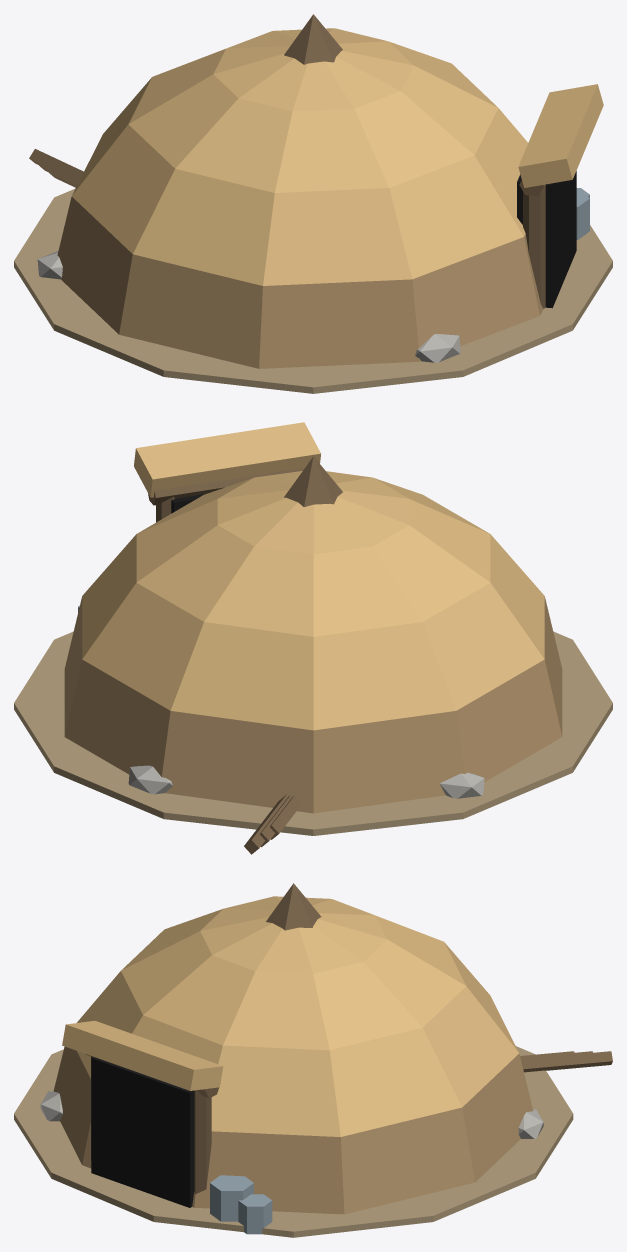
File: house.glb
3 views of the same model, one above another, from view 1: azimuth 30°, elevation 25°; view 2: azimuth 150°, elevation 25°; view 3: azimuth 270°, elevation 25° (orthographic). The views are drawn at different scales.
Visible parts, largest first — view 1: House_1_Dome.001, House_1_Dirt.001, House_1_DoorEave.001, House_1_DoorVoid.001, House_1_DoorPost_-1.001, House_1_Knot.001, House_1_BaseStone_2.001, House_1_Pot_0.001, House_1_BaseStone_1.001; view 2: House_1_Dome.001, House_1_Dirt.001, House_1_DoorEave.001, House_1_Knot.001, House_1_Lintel.001, House_1_BaseStone_0.001, House_1_BaseStone_1.001; view 3: House_1_Dome.001, House_1_Dirt.001, House_1_DoorVoid.001, House_1_DoorEave.001, House_1_DoorPost_1.001, House_1_Pot_0.001, House_1_Knot.001, House_1_Log_2.001, House_1_Pot_1.001, House_1_BaseStone_0.001, House_1_BaseStone_2.001.
Part boxes in pixels (x1,y1,x2,y2): House_1_Dome.001: (57, 28, 543, 368); House_1_Dirt.001: (14, 188, 612, 393); House_1_DoorEave.001: (518, 84, 603, 187); House_1_DoorVoid.001: (517, 171, 576, 308); House_1_DoorPost_-1.001: (523, 184, 545, 308); House_1_Knot.001: (284, 14, 342, 64); House_1_BaseStone_2.001: (415, 334, 460, 362); House_1_Pot_0.001: (576, 189, 589, 239); House_1_BaseStone_1.001: (37, 251, 62, 279); House_1_Dome.001: (64, 471, 562, 813); House_1_Dirt.001: (14, 631, 612, 835); House_1_DoorEave.001: (134, 422, 320, 497); House_1_Knot.001: (284, 456, 342, 507); House_1_Lintel.001: (148, 468, 304, 505); House_1_BaseStone_0.001: (128, 765, 172, 794); House_1_BaseStone_1.001: (439, 772, 484, 798); House_1_Dome.001: (53, 896, 533, 1214); House_1_Dirt.001: (14, 1046, 573, 1237); House_1_DoorVoid.001: (91, 1057, 194, 1207); House_1_DoorEave.001: (62, 1020, 223, 1090); House_1_DoorPost_1.001: (194, 1090, 211, 1194); House_1_Pot_0.001: (210, 1175, 253, 1221); House_1_Knot.001: (266, 883, 321, 930); House_1_Log_2.001: (521, 1051, 612, 1072); House_1_Pot_1.001: (238, 1194, 272, 1234); House_1_BaseStone_0.001: (518, 1109, 543, 1138); House_1_BaseStone_2.001: (40, 1091, 62, 1121).
Bounding box in the file's own units: 3.63 × 1.72 × 3.89.
